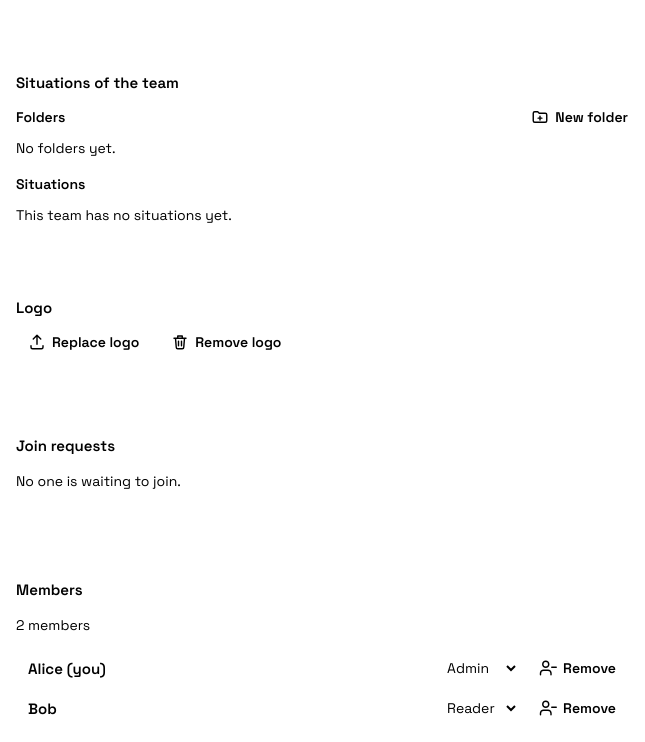
Test: team page › removes the logo at once, without asking
The image size is (645, 742).
(page scrolled)
Click the button "Remove logo".
click(226, 342)  # box [159,333,293,351]
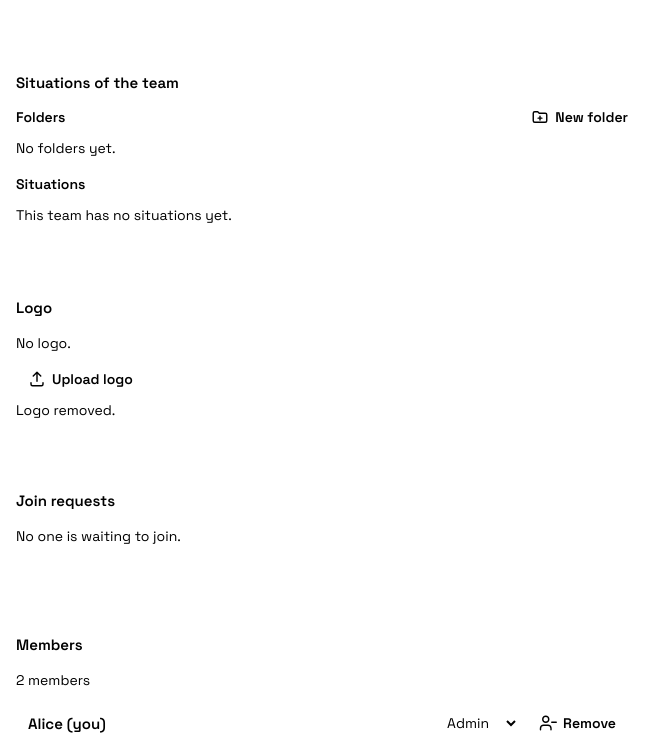
Expected: the element "Logo" shows "No logo.", [16,334,71,352]
Expected: the message reads "Logo removed.", [16,401,115,419]
